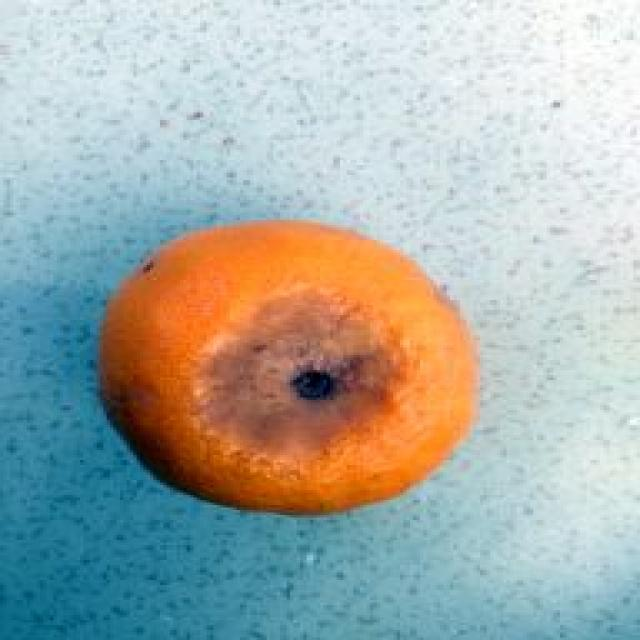Bad_Orange: (102, 221, 473, 513)
